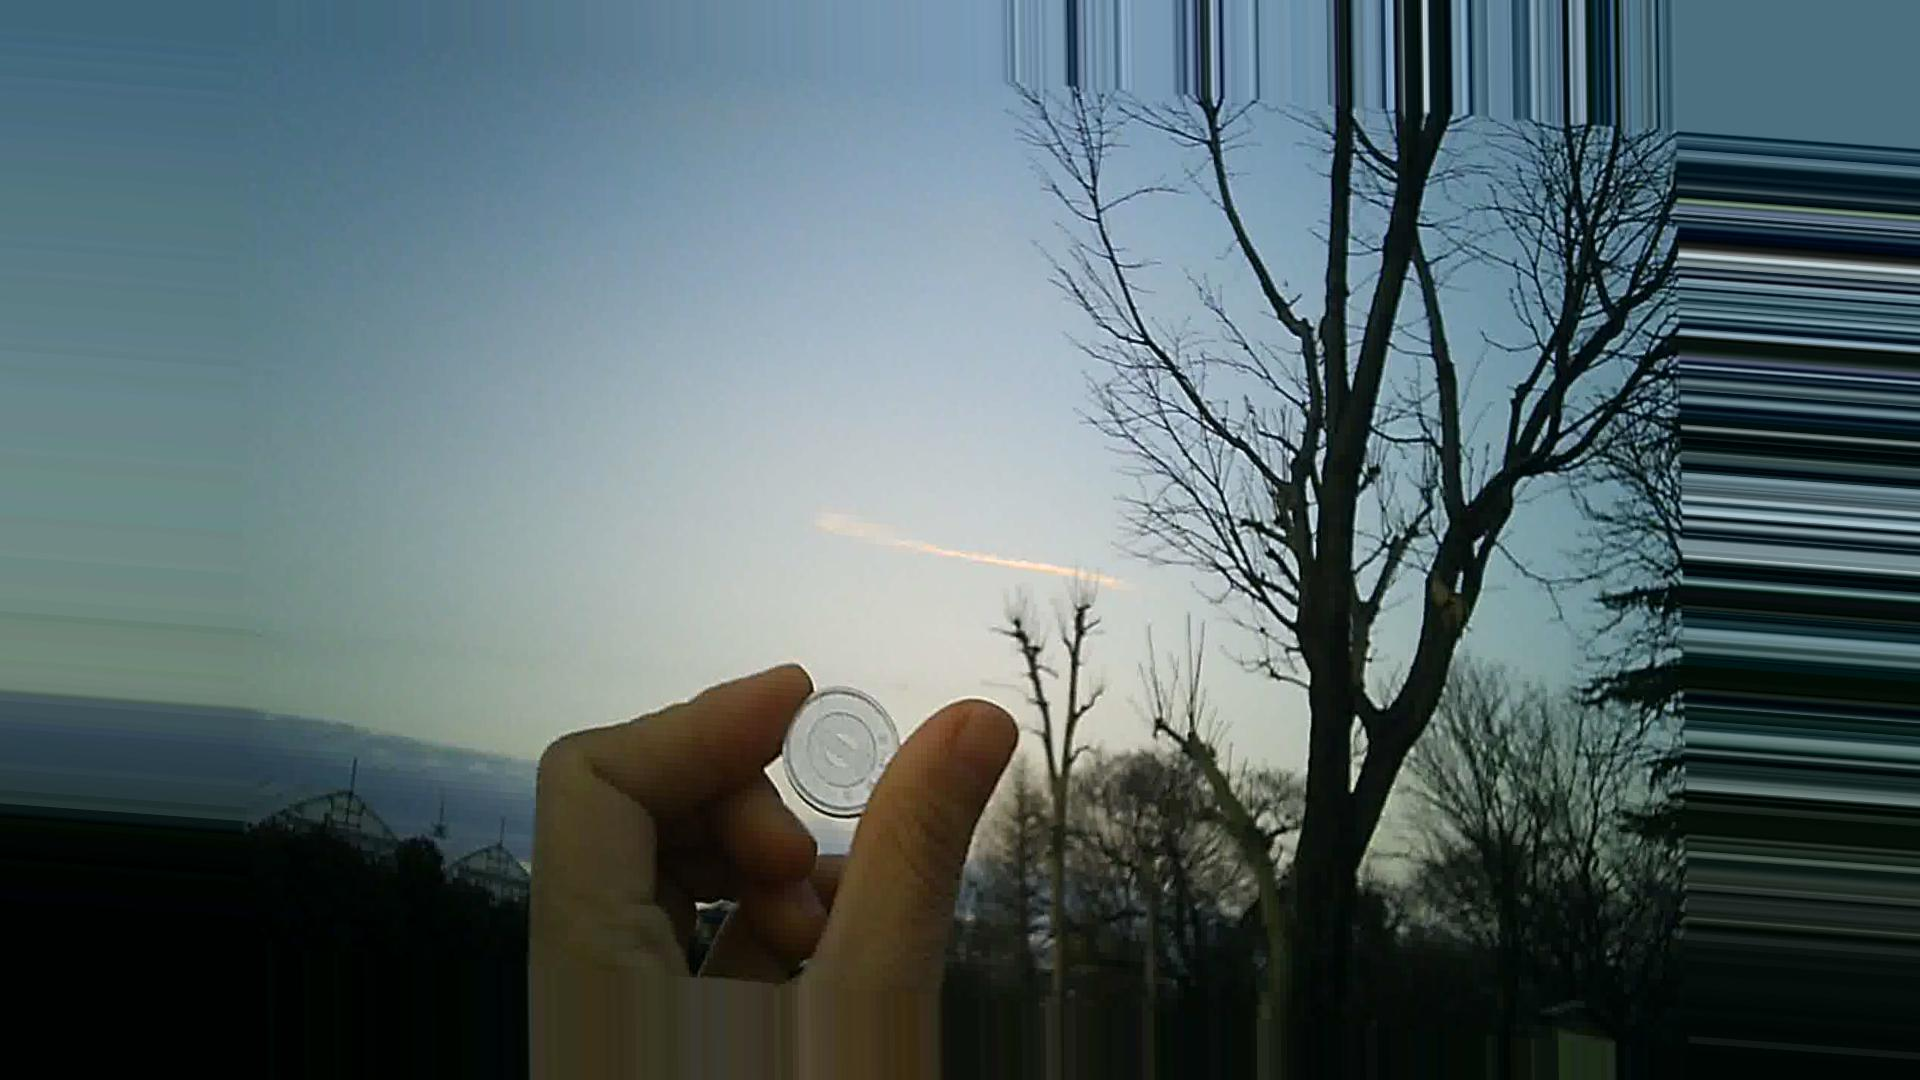1 Yen: (778, 674, 923, 828)
